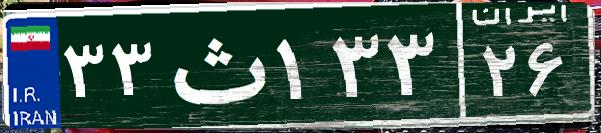1: (273, 28, 330, 110)
2: (475, 38, 525, 113)
3: (385, 28, 445, 110), (330, 28, 385, 110), (57, 26, 110, 107), (110, 28, 158, 105)
6: (525, 38, 570, 115)
ث: (158, 15, 273, 115)
